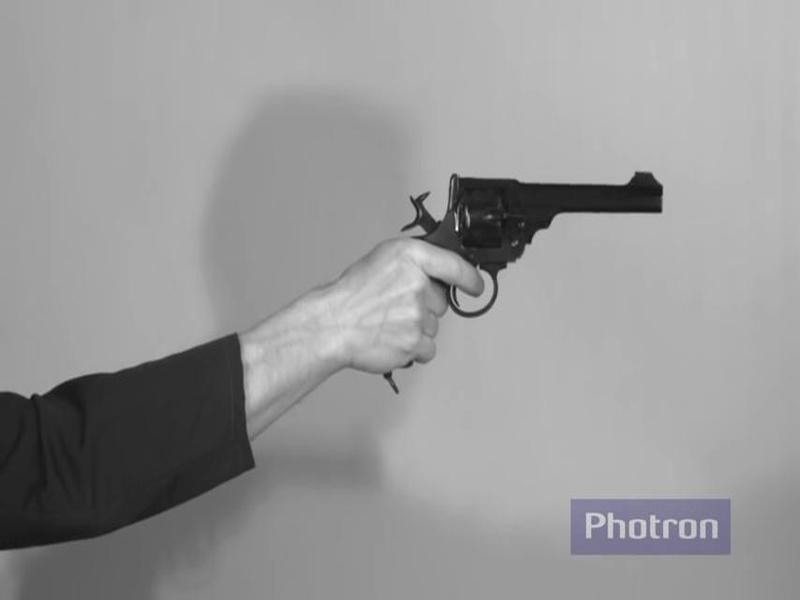Revolver: (389, 145, 695, 323)
